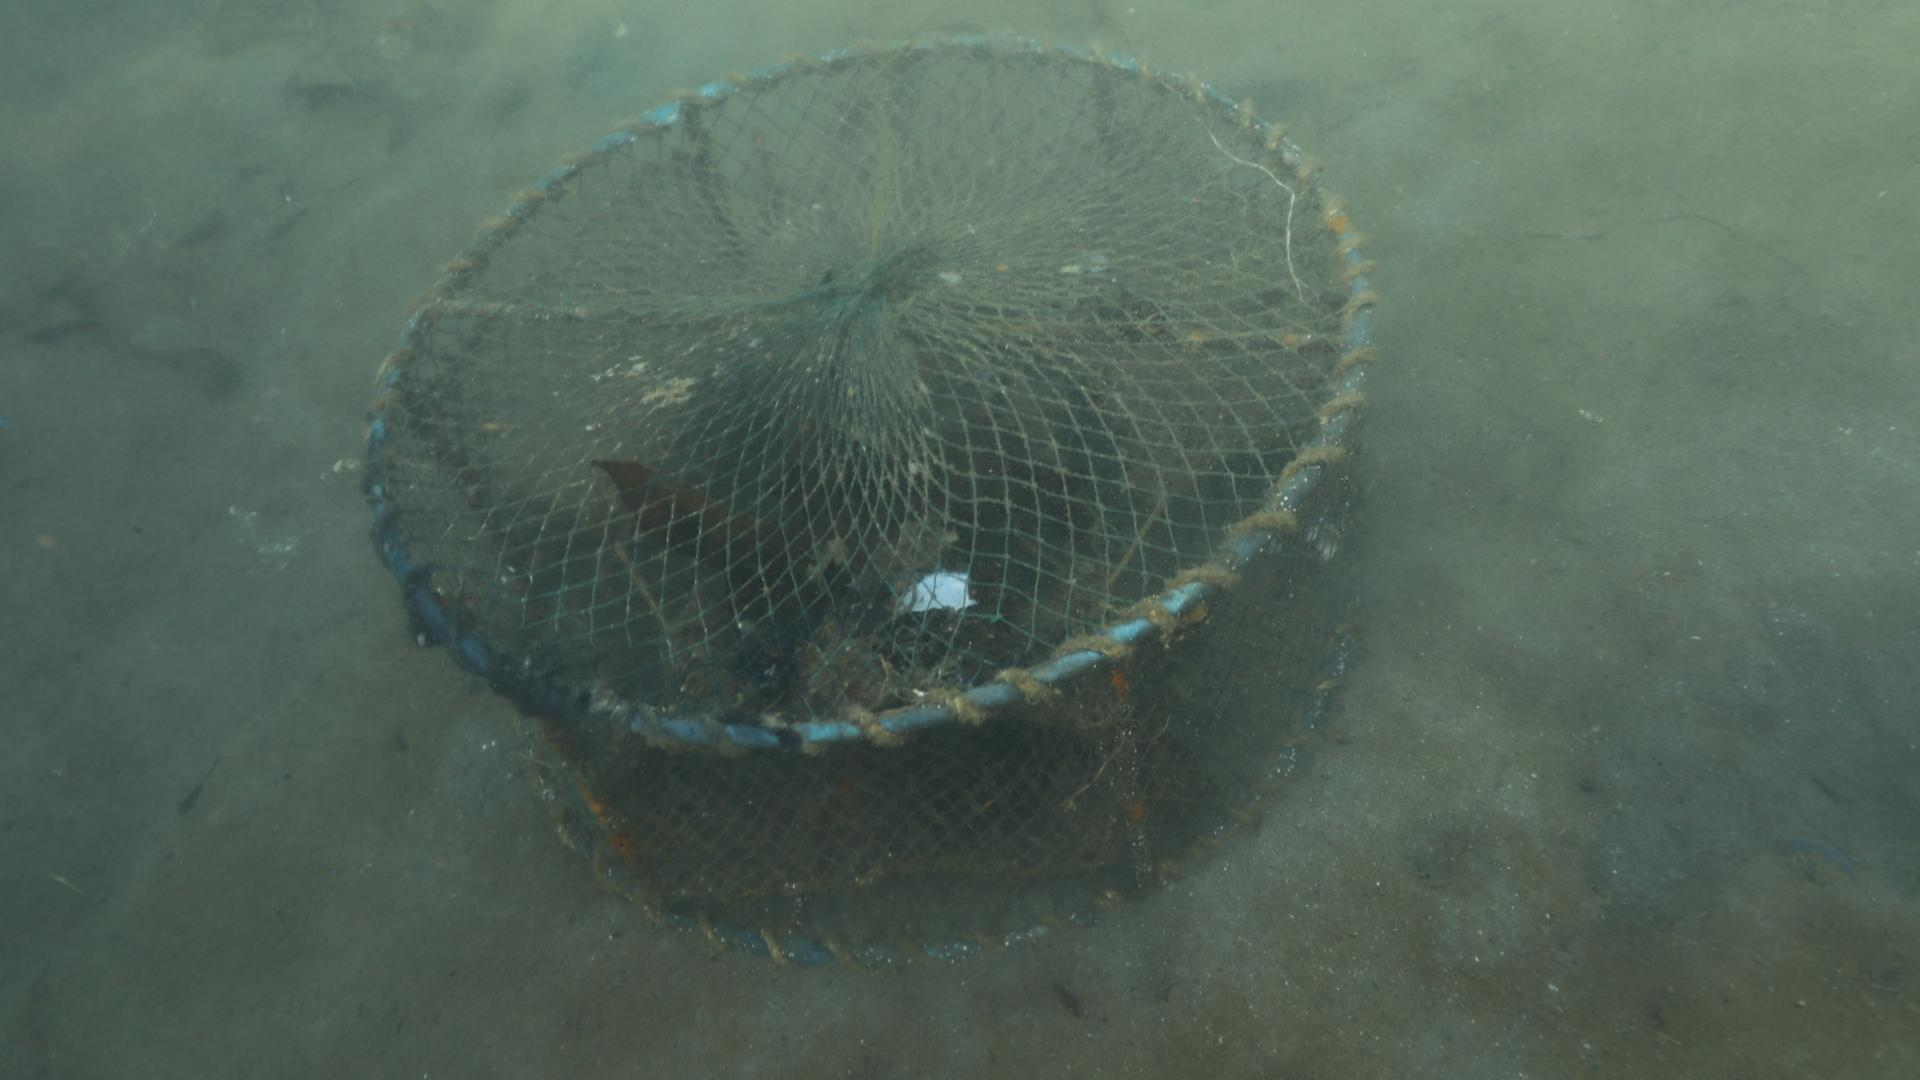circular fish trap: (360, 30, 1379, 968)
